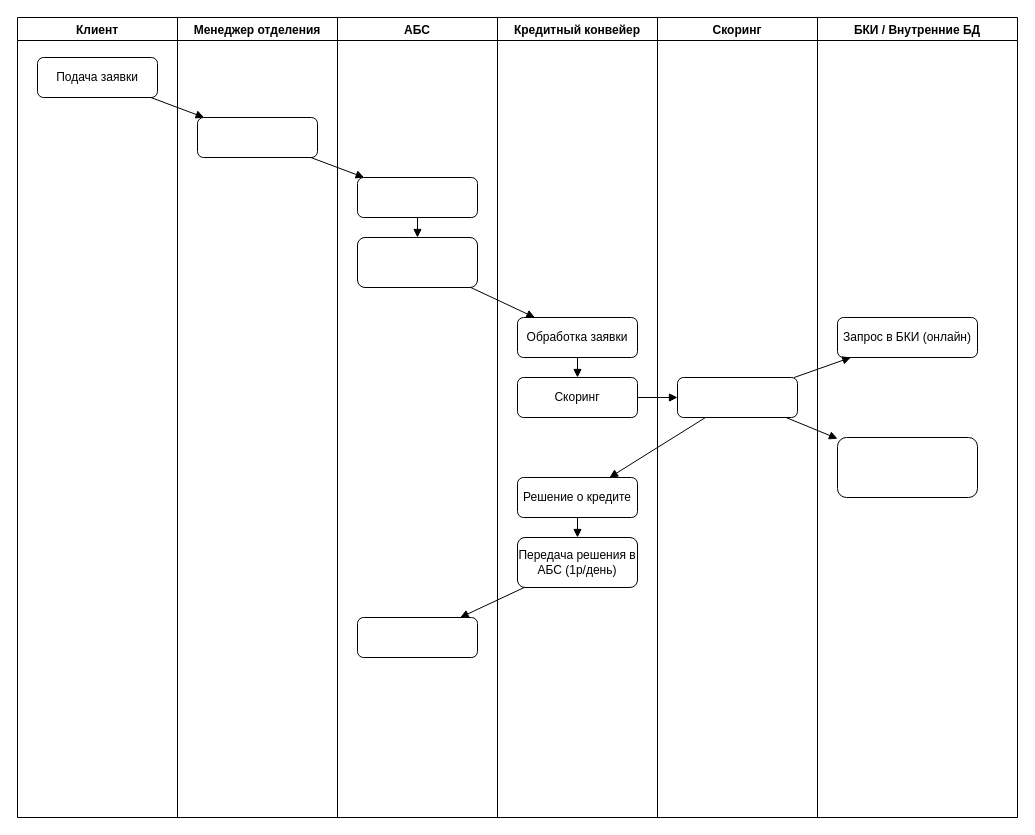
Some shapes in this 1035 by 835 pixel diagram are drawn without their labels. Each missing label, with the centre of its shape:
"Выгрузка истории платежей (1р/день)" belongs at point 907,467.
"Зачисление средств на счет" belongs at point 417,637.
"Оформление заявки в АБС" belongs at point 257,137.
"Оценка заявки" belongs at point 737,397.
"Передача в КК (1 раз в сутки)" belongs at point 417,262.
"Сохранение заявки" belongs at point 417,197.
